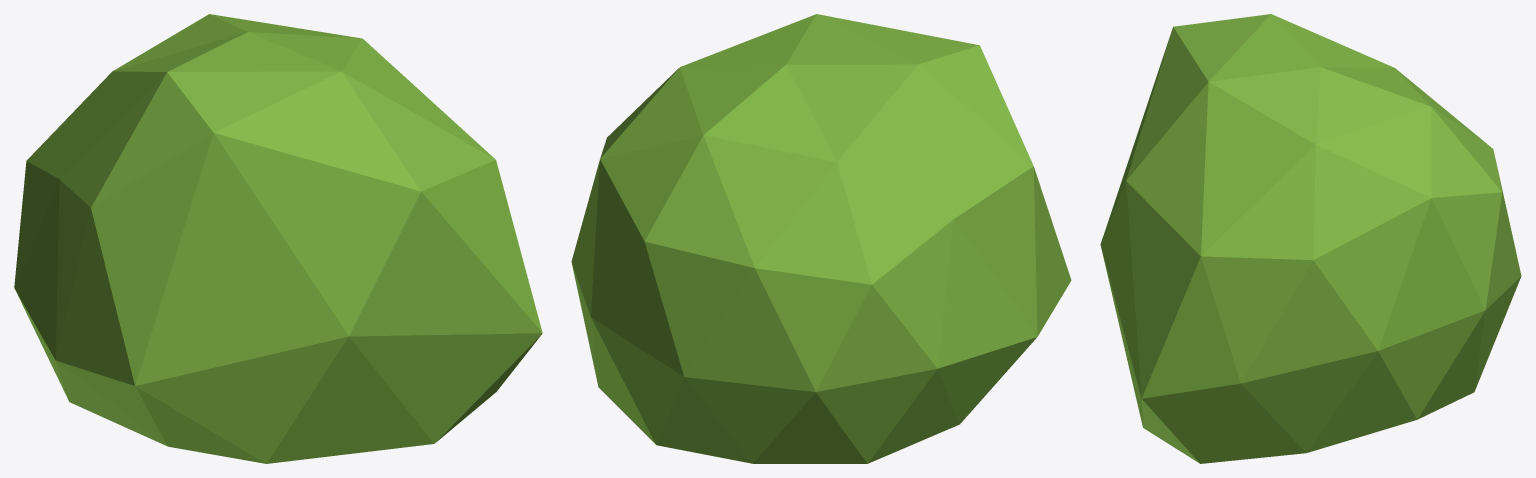
Rendered from Small_Bush_01.fbx.
The picture shows the model from 3 angles, left to right: view 1: azimuth 30°, elevation 25°; view 2: azimuth 150°, elevation 25°; view 3: azimuth 270°, elevation 25°; orthographic projection. The views are drawn at different scales.
Parts seen in each view (by area): view 1: Bush2.001; view 2: Bush2.001; view 3: Bush2.001.
Boxes of the visible parts, left/top/right/bottom form: Bush2.001: left=14, top=14, right=542, bottom=463; Bush2.001: left=571, top=14, right=1071, bottom=463; Bush2.001: left=1100, top=14, right=1521, bottom=463.
Size of the model in its own units: 526 by 429 by 492.
